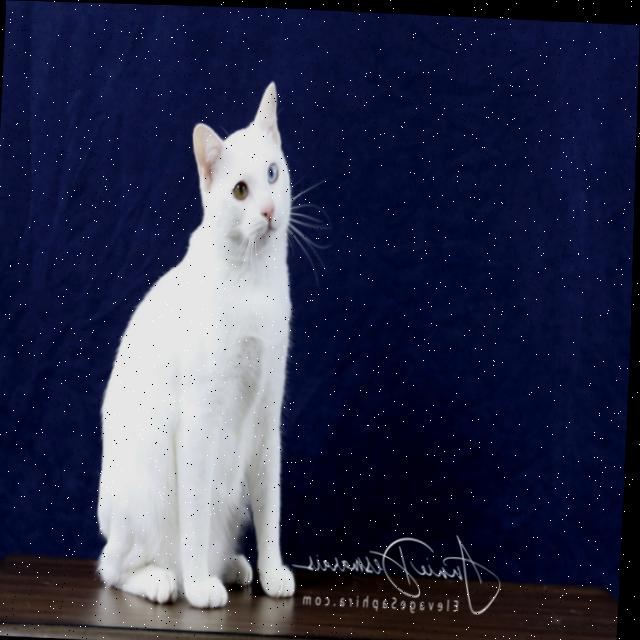Khao Manee: (90, 67, 322, 616)
